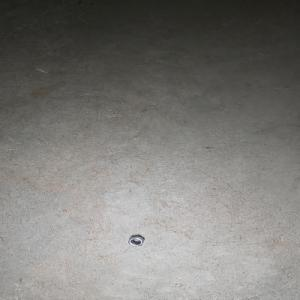Nut: (127, 235, 145, 246)
